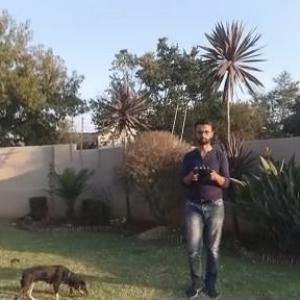follow: (180, 115, 232, 299)
null: (8, 252, 92, 299)
